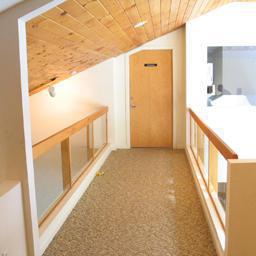Puerta: (132, 53, 172, 148)
